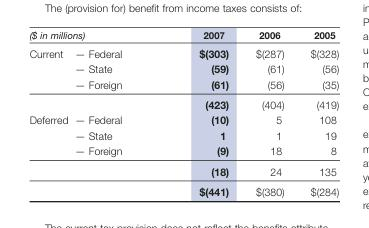table: (28, 28, 338, 197)
table column: (70, 28, 159, 197), (159, 28, 241, 197), (241, 28, 296, 197), (28, 28, 70, 197), (296, 28, 338, 197)
table column header: (28, 28, 338, 111)
table row: (28, 43, 338, 111), (28, 160, 338, 180), (28, 142, 338, 160), (28, 180, 338, 197), (28, 111, 338, 127), (28, 28, 338, 43), (28, 127, 338, 142)
table spanning cell: (159, 28, 241, 111), (241, 28, 296, 111), (28, 111, 70, 197), (296, 28, 338, 111), (28, 28, 159, 43)
